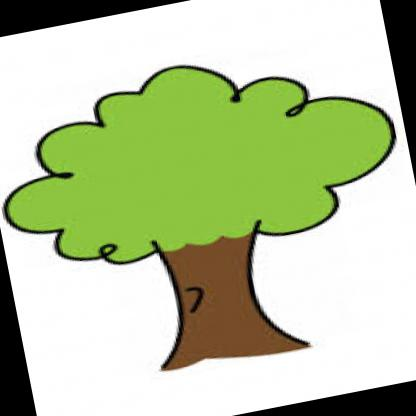crown_cloud: (0, 28, 410, 286)
root_only: (157, 319, 310, 377)
trunk_straight: (158, 237, 272, 345)
